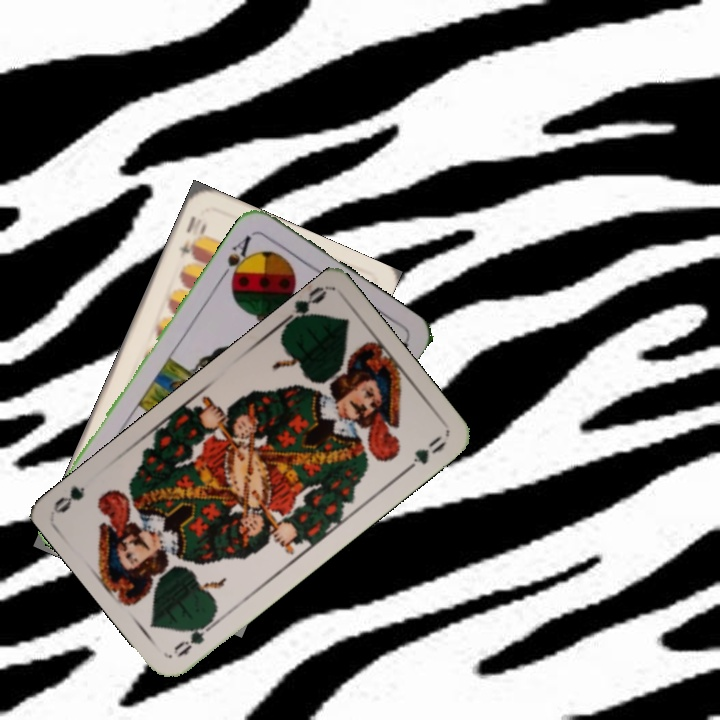E10: (175, 220, 210, 261)
GO: (277, 283, 329, 331), (169, 613, 221, 661)
SA: (217, 231, 257, 287)
